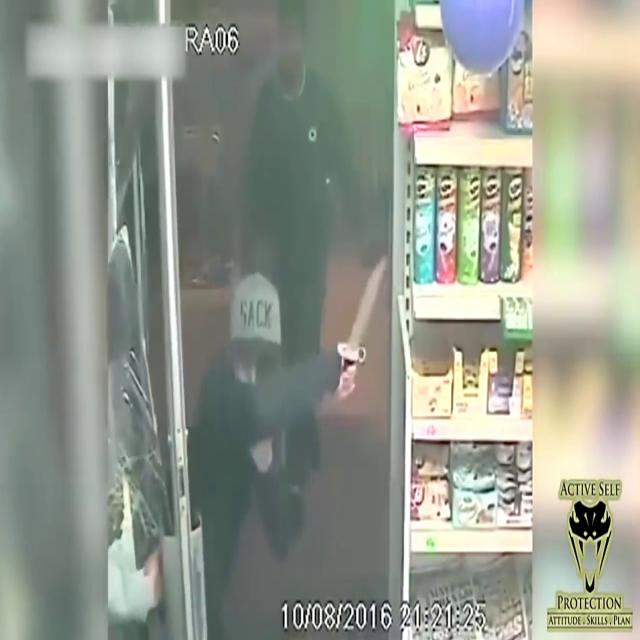Knife_Handle: (336, 257, 387, 399)
